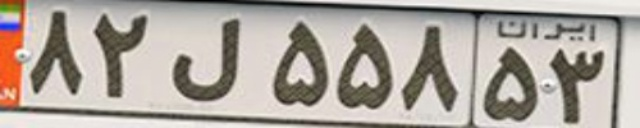2: (91, 12, 148, 97)
3: (547, 48, 605, 123)
5: (273, 20, 330, 106), (338, 22, 393, 108), (481, 45, 536, 121)
8: (399, 25, 459, 111), (29, 10, 85, 94)
lam: (173, 19, 236, 102)
